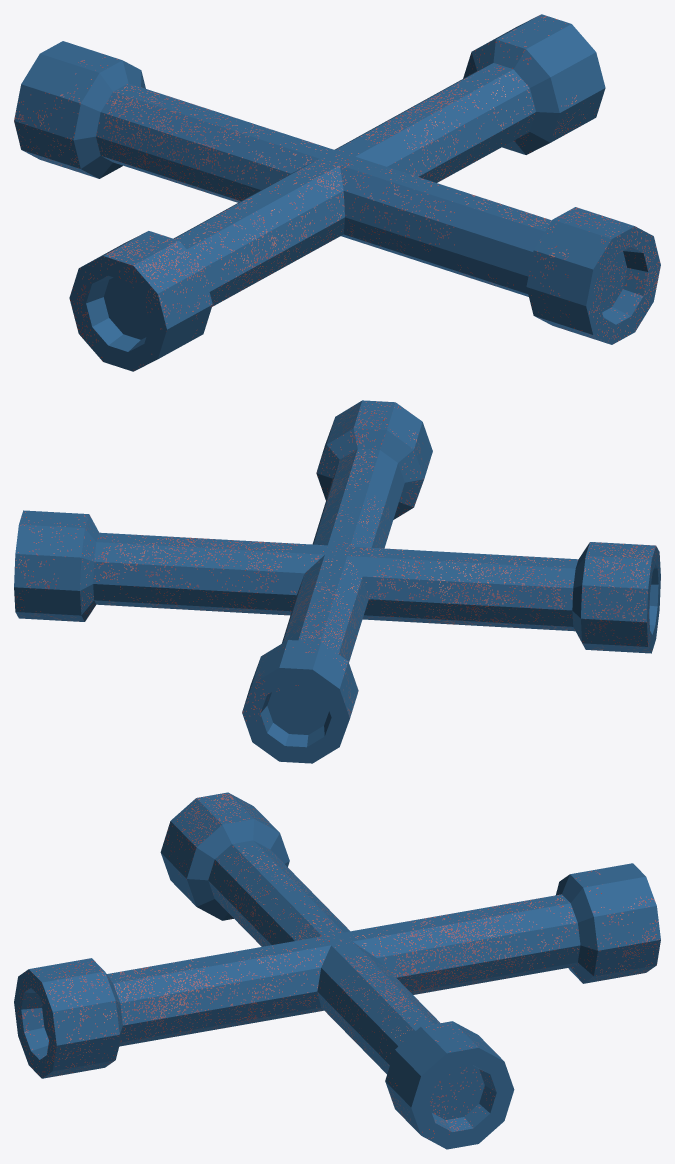
The model's file is cross.fbx.
3 views of the same model, one above another, from view 1: azimuth 30°, elevation 25°; view 2: azimuth 150°, elevation 25°; view 3: azimuth 270°, elevation 25° (orthographic). The views are drawn at different scales.
Parts seen in each view (by area): view 1: pCylinder7; view 2: pCylinder7; view 3: pCylinder7.
Boxes of the visible parts, left/top/right/bottom form: pCylinder7: left=14, top=14, right=660, bottom=371; pCylinder7: left=14, top=400, right=660, bottom=763; pCylinder7: left=14, top=792, right=660, bottom=1149.
Bounding box in the file's own units: 9.46 × 1.55 × 9.46.
